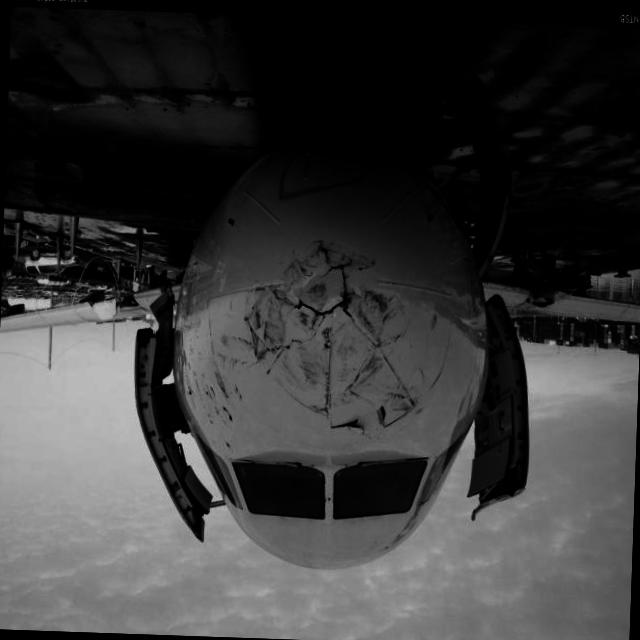crack: (233, 234, 423, 436)
